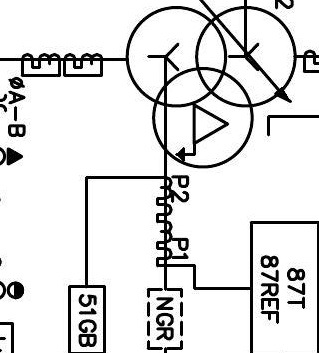11522_tx_ynyn0d1: (124, 5, 298, 170)
